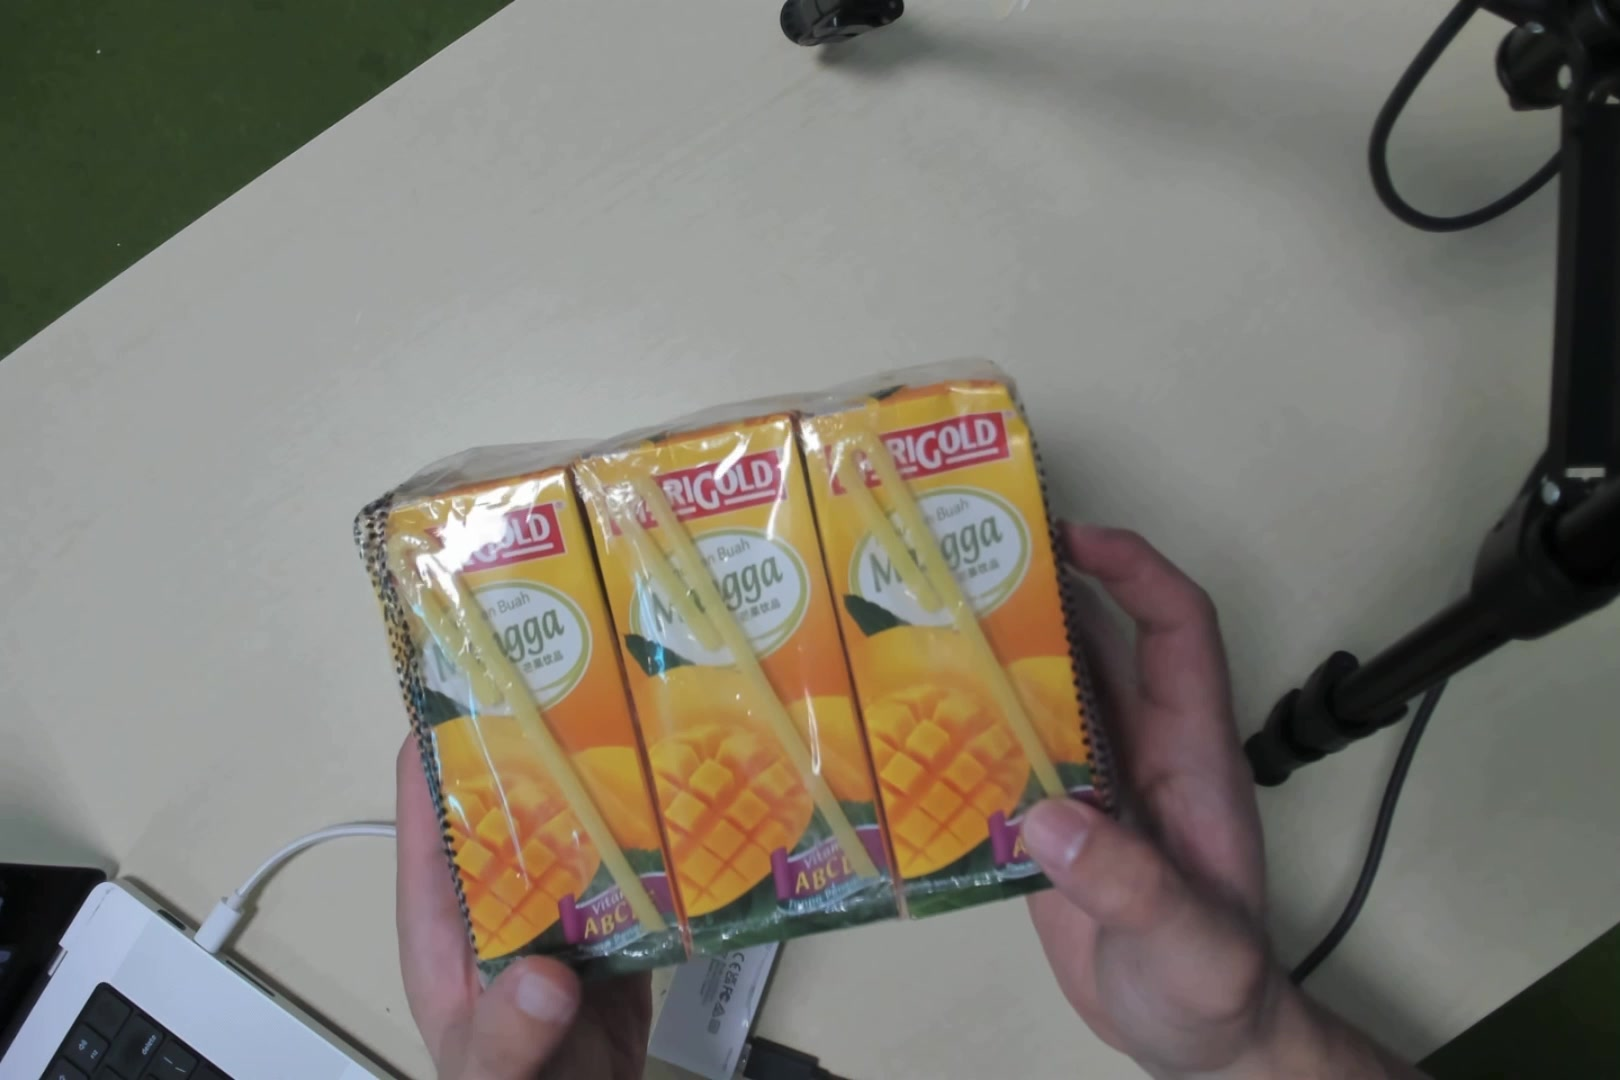FruitJuice_700-799g_Halal_NonHealthy: (383, 337, 1068, 962)
